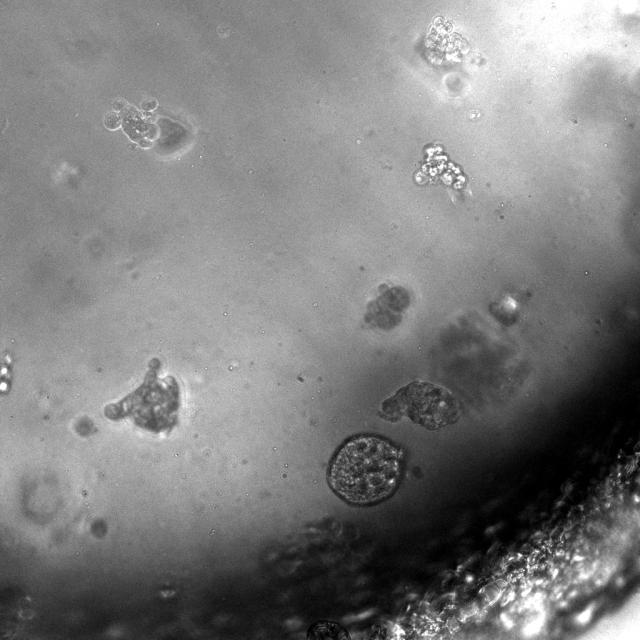organoid: (262, 517, 376, 612), (432, 311, 529, 405), (104, 358, 180, 434), (328, 433, 403, 506), (379, 380, 461, 430), (104, 99, 159, 148), (419, 15, 469, 66), (414, 143, 466, 190), (364, 283, 411, 331), (489, 292, 527, 326), (0, 352, 12, 393), (74, 415, 97, 436), (91, 518, 108, 539)
